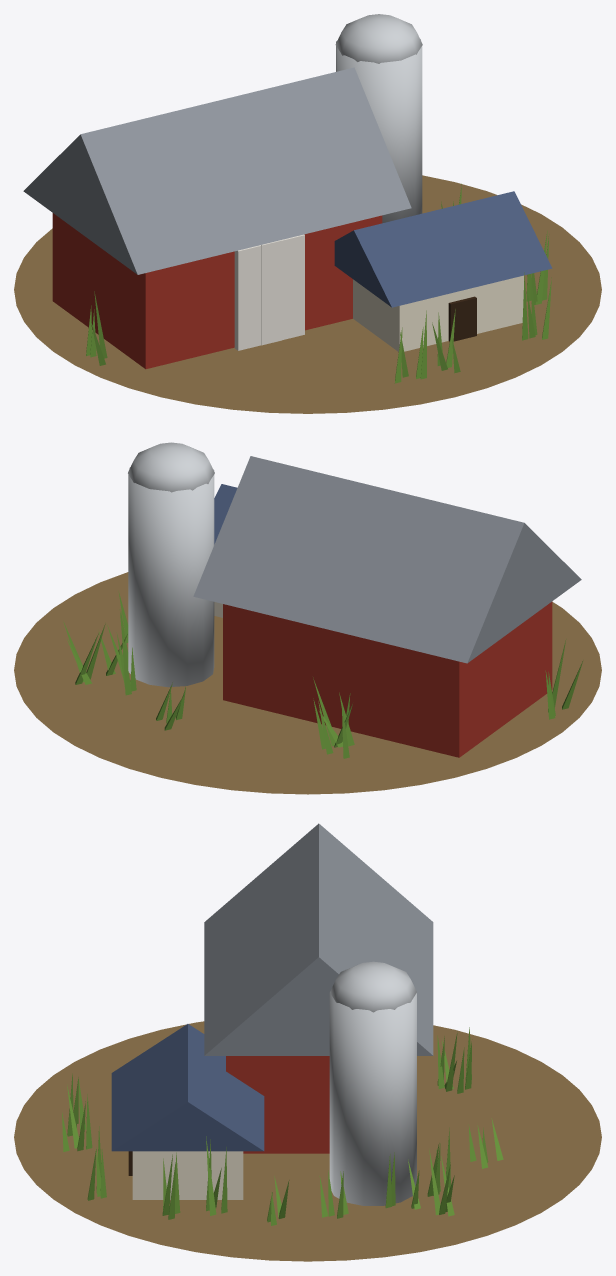
Rendered from improvement_farmhouse_2.fbx.
3 renders of one model, top to bottom at view 1: azimuth 30°, elevation 25°; view 2: azimuth 150°, elevation 25°; view 3: azimuth 270°, elevation 25°, orthographic.
Visible parts, largest first — view 1: improvement_farmhouse_2_tin_03, improvement_farmhouse_2_gpatch#8a7048r.002_00, improvement_farmhouse_2_barnred_02, improvement_farmhouse_2_fhr_07, improvement_farmhouse_2_silo_05, improvement_farmhouse_2_whiteline_04, improvement_farmhouse_2_fhw_06, improvement_farmhouse_2_leaf#6a9a3a.023_01, improvement_farmhouse_2_door.013_08; view 2: improvement_farmhouse_2_tin_03, improvement_farmhouse_2_gpatch#8a7048r.002_00, improvement_farmhouse_2_barnred_02, improvement_farmhouse_2_silo_05, improvement_farmhouse_2_leaf#6a9a3a.023_01, improvement_farmhouse_2_fhr_07; view 3: improvement_farmhouse_2_gpatch#8a7048r.002_00, improvement_farmhouse_2_tin_03, improvement_farmhouse_2_silo_05, improvement_farmhouse_2_fhr_07, improvement_farmhouse_2_leaf#6a9a3a.023_01, improvement_farmhouse_2_barnred_02, improvement_farmhouse_2_fhw_06.
Boxes of the visible parts, x1,y1,x2,y2 form: improvement_farmhouse_2_tin_03: [23, 67, 411, 274]; improvement_farmhouse_2_gpatch#8a7048r.002_00: [14, 175, 601, 413]; improvement_farmhouse_2_barnred_02: [52, 213, 382, 369]; improvement_farmhouse_2_fhr_07: [334, 191, 552, 307]; improvement_farmhouse_2_silo_05: [335, 14, 422, 223]; improvement_farmhouse_2_whiteline_04: [234, 234, 304, 350]; improvement_farmhouse_2_fhw_06: [353, 275, 523, 351]; improvement_farmhouse_2_leaf#6a9a3a.023_01: [86, 183, 551, 383]; improvement_farmhouse_2_door.013_08: [448, 296, 476, 341]; improvement_farmhouse_2_tin_03: [193, 456, 581, 663]; improvement_farmhouse_2_gpatch#8a7048r.002_00: [14, 572, 601, 794]; improvement_farmhouse_2_barnred_02: [223, 601, 552, 757]; improvement_farmhouse_2_silo_05: [128, 442, 214, 687]; improvement_farmhouse_2_leaf#6a9a3a.023_01: [63, 591, 583, 758]; improvement_farmhouse_2_fhr_07: [214, 484, 237, 544]; improvement_farmhouse_2_gpatch#8a7048r.002_00: [14, 1021, 601, 1261]; improvement_farmhouse_2_tin_03: [204, 823, 433, 1055]; improvement_farmhouse_2_silo_05: [329, 961, 416, 1205]; improvement_farmhouse_2_fhr_07: [111, 1024, 264, 1151]; improvement_farmhouse_2_leaf#6a9a3a.023_01: [62, 1027, 503, 1225]; improvement_farmhouse_2_barnred_02: [226, 1056, 329, 1153]; improvement_farmhouse_2_fhw_06: [132, 1151, 243, 1199].
Size of the model in its own units: 108 by 45.32 by 108.
